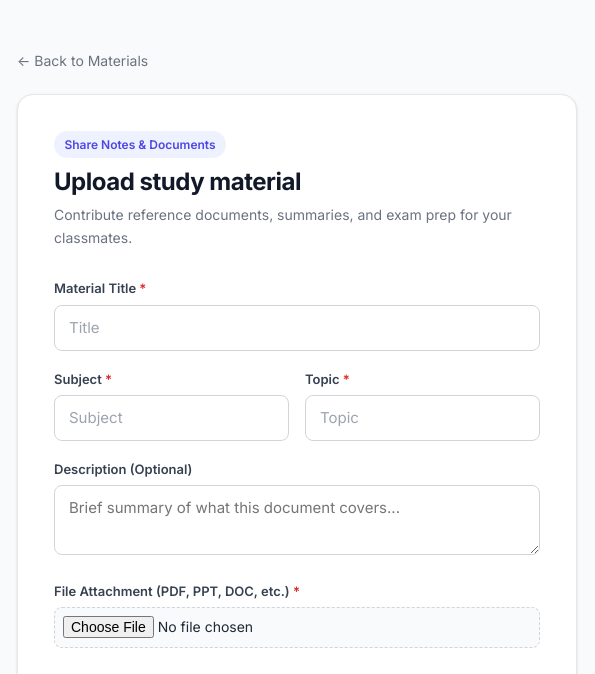
Test case: shows an error when no file is chosen
The width and height of the screenshot is (595, 674).
In the field with placeholder "Title": (297, 328) [54, 304, 540, 350], type "Notes"
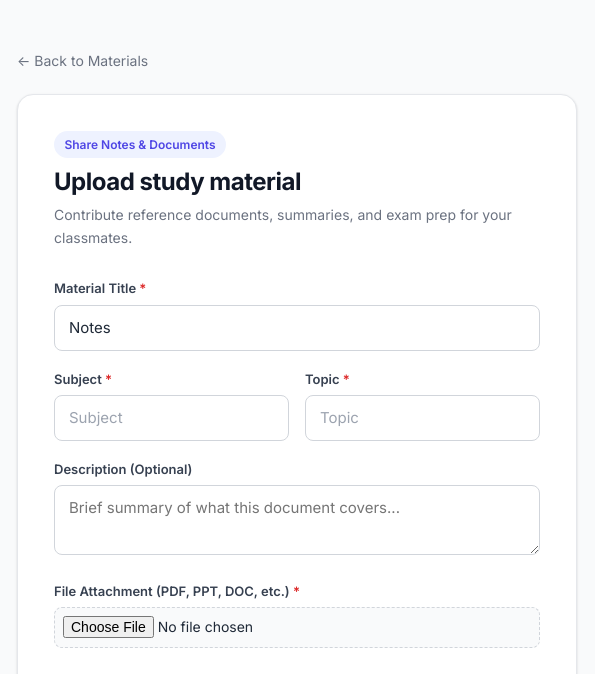
In the field with placeholder "Subject": (172, 418) [54, 395, 289, 441], type "Math"
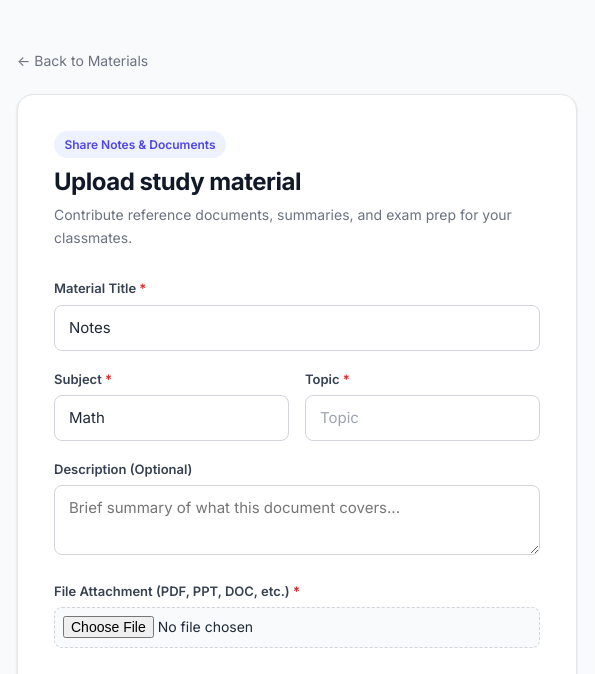
In the field with placeholder "Topic": (422, 418) [305, 395, 540, 441], type "Algebra"
(page scrolled)
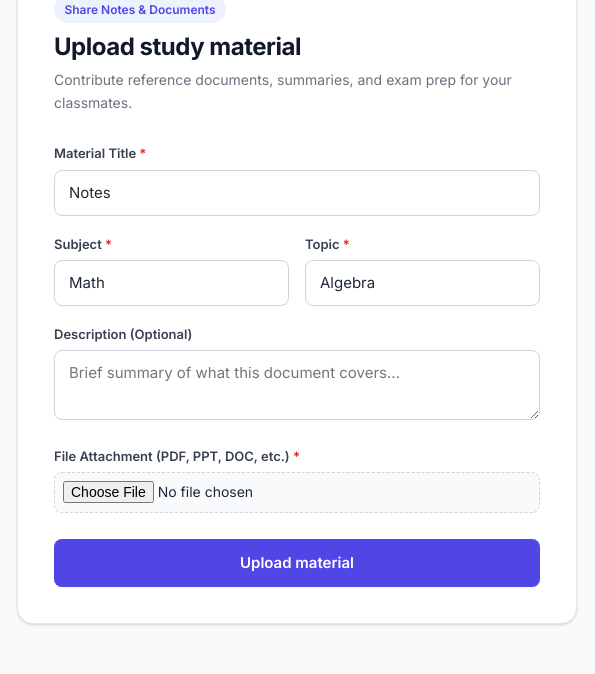
Click the button "Upload material": (297, 563) [54, 539, 540, 587]
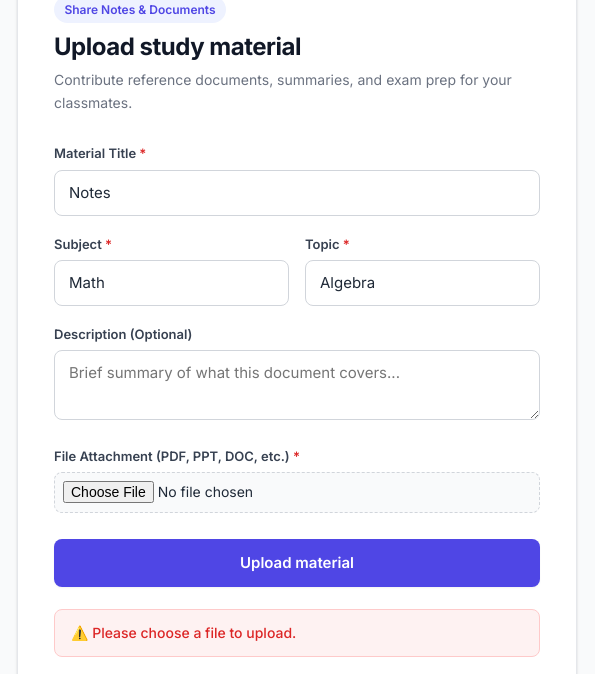
Expected: the message shows "file", [92, 624, 296, 641]
